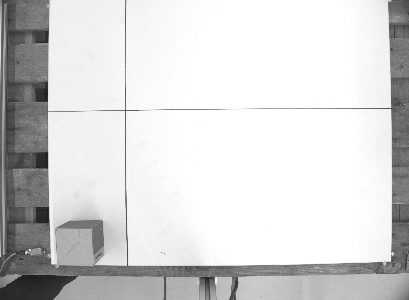b7: (53, 218, 106, 268)
